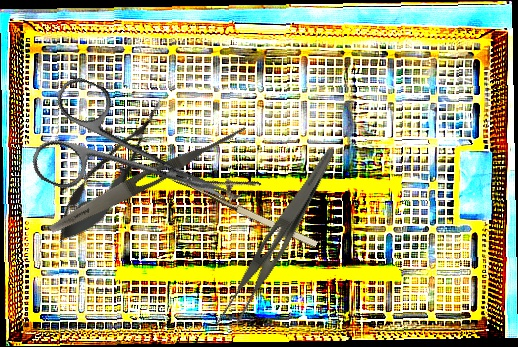Dressing Forceps: (211, 135, 338, 340), (46, 118, 250, 239)
Iris Scissors: (25, 72, 247, 249)
Micro Scissor: (43, 86, 181, 257)
Needle Holder: (170, 145, 330, 253)
